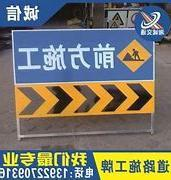sign: (12, 29, 155, 116)
